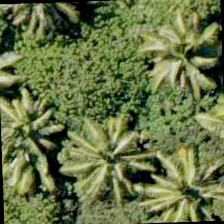Kelapa_Sawit: (51, 115, 144, 208), (134, 8, 224, 101), (137, 135, 223, 224), (0, 94, 60, 187)
